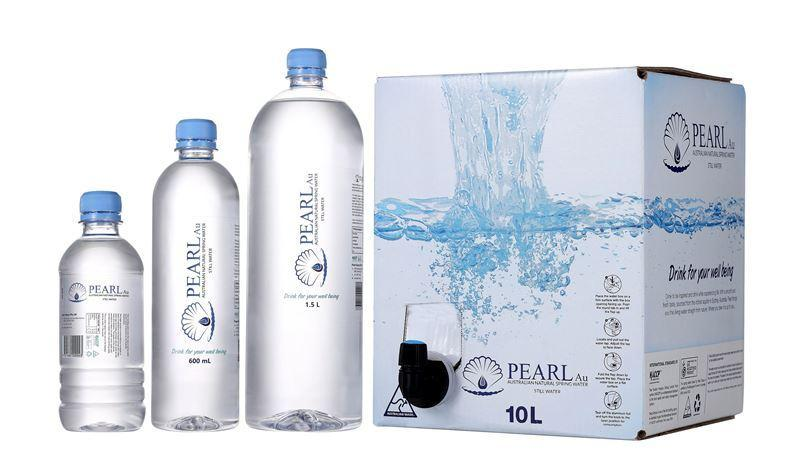bottle: (246, 45, 370, 440), (146, 111, 244, 436), (49, 186, 144, 436)
